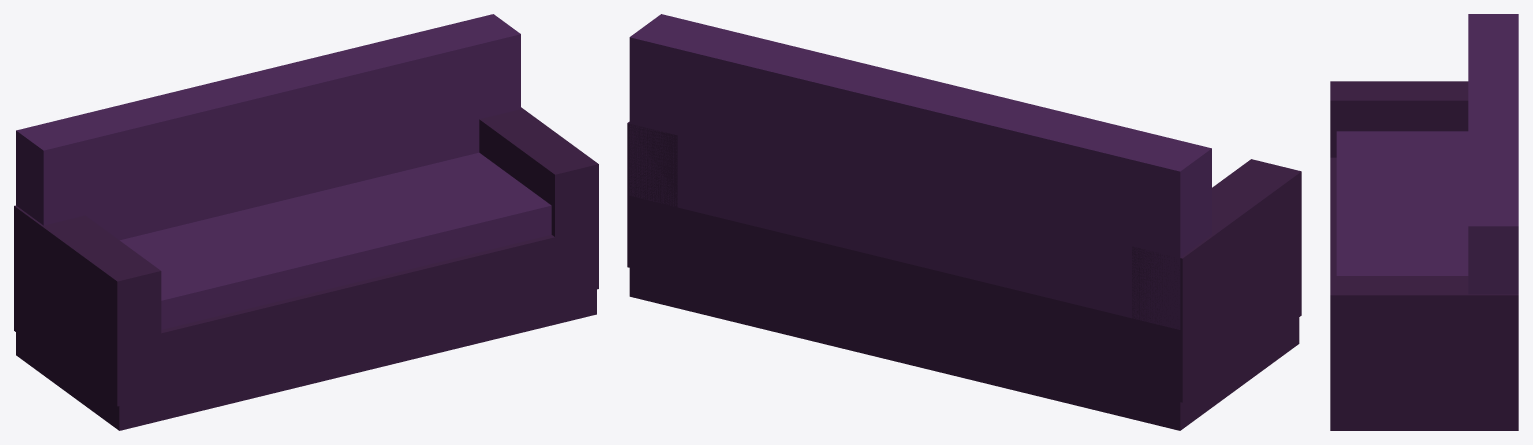
The model's file is prop_club_sofa_ph.glb.
3 views of the same model, side by side, from view 1: azimuth 30°, elevation 25°; view 2: azimuth 150°, elevation 25°; view 3: azimuth 270°, elevation 25° (orthographic). The views are drawn at different scales.
Parts seen in each view (by area): view 1: prop_club_sofa; view 2: prop_club_sofa; view 3: prop_club_sofa.
Boxes of the visible parts, bbox=[...] form: prop_club_sofa: bbox=[14, 14, 598, 430]; prop_club_sofa: bbox=[627, 14, 1301, 430]; prop_club_sofa: bbox=[1330, 14, 1518, 430].
Bounding box in the file's own units: 2.42 × 1.08 × 0.9.
